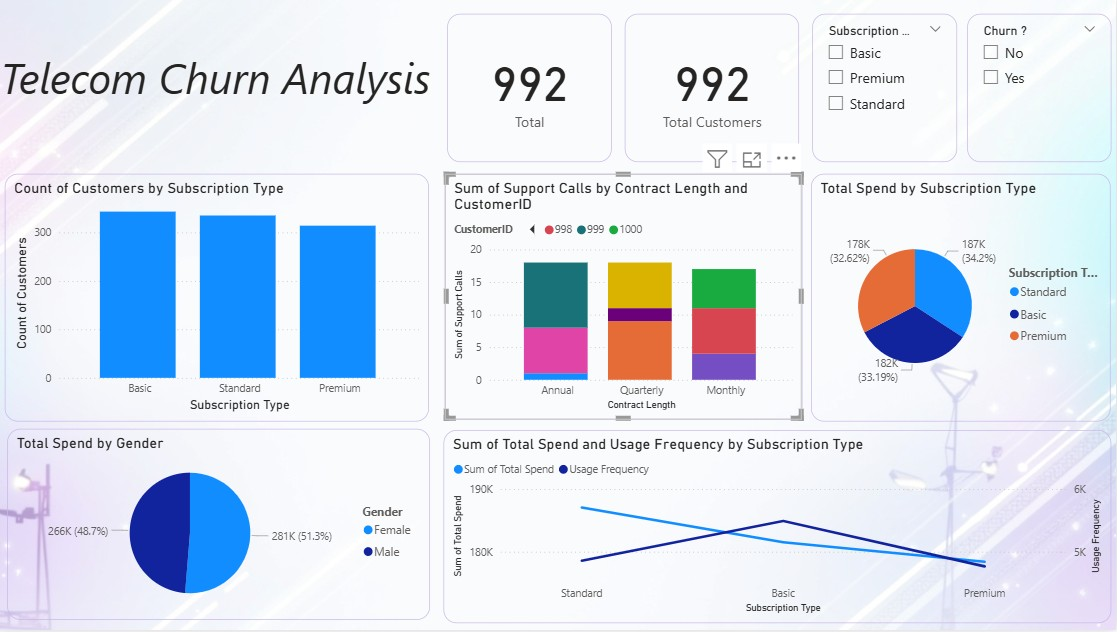

The page's visual inventory and layout, read from the dashboard file:
{"tool":"powerbi","page":{"name":"Page 1","canvas":[1280,720],"ordinal":0},"visuals":[{"type":"textbox","box":[0,15.8,510,160.5],"z":0},{"type":"card","fields":{"Values":["CountNonNull(Sheet1.CustomerID)"]},"box":[515.9,15.8,188.1,169.4],"z":1000},{"type":"slicer","fields":{"Values":["Sheet1.Subscription Type"]},"box":[932.4,15.8,165.4,169.4],"z":2000},{"type":"slicer","fields":{"Values":["Sheet1.Churn_Text"]},"box":[1110.6,15.8,164.4,169.4],"z":3000},{"type":"columnChart","fields":{"Category":["Sheet1.Subscription Type"],"Y":["CountNonNull(Sheet1.CustomerID)"]},"box":[9.6,198.5,485.2,282.8],"z":4000},{"type":"columnChart","fields":{"Category":["Sheet1.Contract Length"],"Y":["Sum(Sheet1.Support Calls)"],"Series":["Sheet1.CustomerID"]},"box":[512.4,199,408.8,281.1],"z":5000},{"type":"pieChart","fields":{"Category":["Sheet1.Subscription Type"],"Y":["Sum(Sheet1.Total Spend)"]},"box":[932,198.5,342.3,282.8],"z":6000},{"type":"pieChart","fields":{"Category":["Sheet1.Gender"],"Y":["Sum(Sheet1.Total Spend)"]},"box":[12.5,489.9,483.2,218.6],"z":7000},{"type":"lineChart","fields":{"Category":["Sheet1.Subscription Type"],"Y":["Sum(Sheet1.Total Spend)"],"Y2":["Sum(Sheet1.Usage Frequency)"]},"box":[512,491.3,763.1,220.6],"z":8000},{"type":"card","fields":{"Values":["CountNonNull(Sheet1.CustomerID)"]},"box":[719.1,15.3,199.4,169.7],"z":9000}]}

Visuals, with their boxes in screenshot pixels (x1, y1, x2, y2), scaled from the page's 1280x720 canvas onto the 1117x632 screenshot:
textbox: region(0, 14, 445, 155)
card - CountNonNull(Sheet1.CustomerID): region(450, 14, 614, 163)
slicer - Sheet1.Subscription Type: region(814, 14, 958, 163)
slicer - Sheet1.Churn_Text: region(969, 14, 1113, 163)
columnChart - Sheet1.Subscription Type x CountNonNull(Sheet1.CustomerID): region(8, 174, 432, 422)
columnChart - Sheet1.Contract Length x Sum(Sheet1.Support Calls): region(447, 175, 804, 421)
pieChart - Sheet1.Subscription Type x Sum(Sheet1.Total Spend): region(813, 174, 1112, 422)
pieChart - Sheet1.Gender x Sum(Sheet1.Total Spend): region(11, 430, 433, 622)
lineChart - Sheet1.Subscription Type x Sum(Sheet1.Total Spend): region(447, 431, 1113, 625)
card - CountNonNull(Sheet1.CustomerID): region(628, 13, 802, 162)
